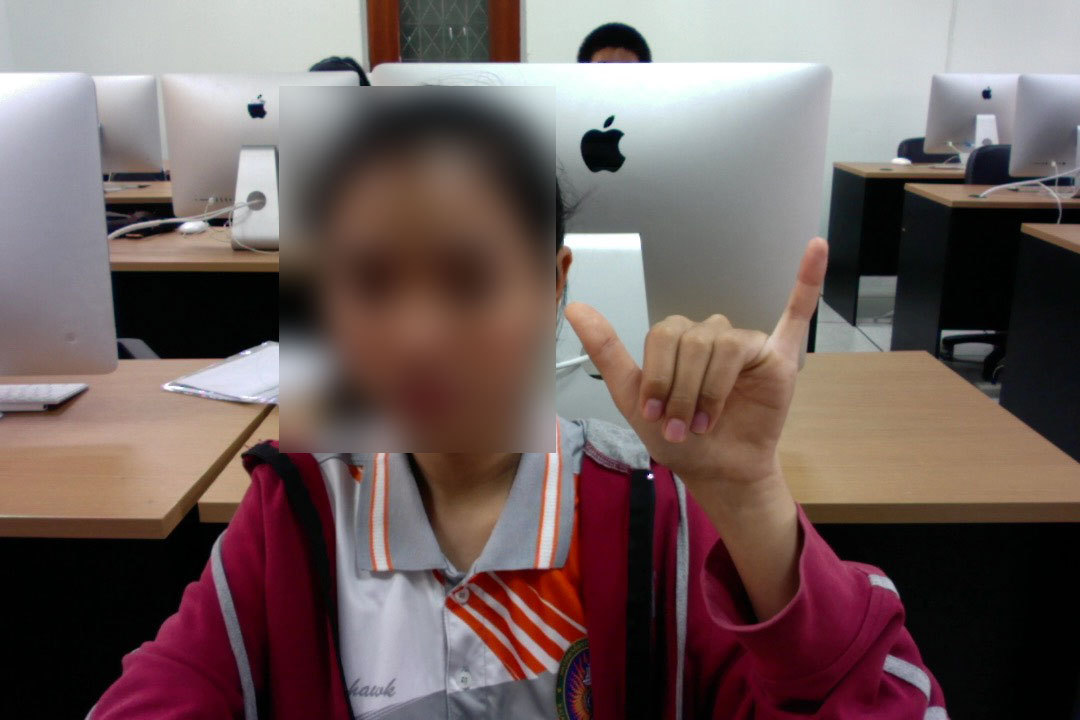yor: (553, 231, 838, 502)
